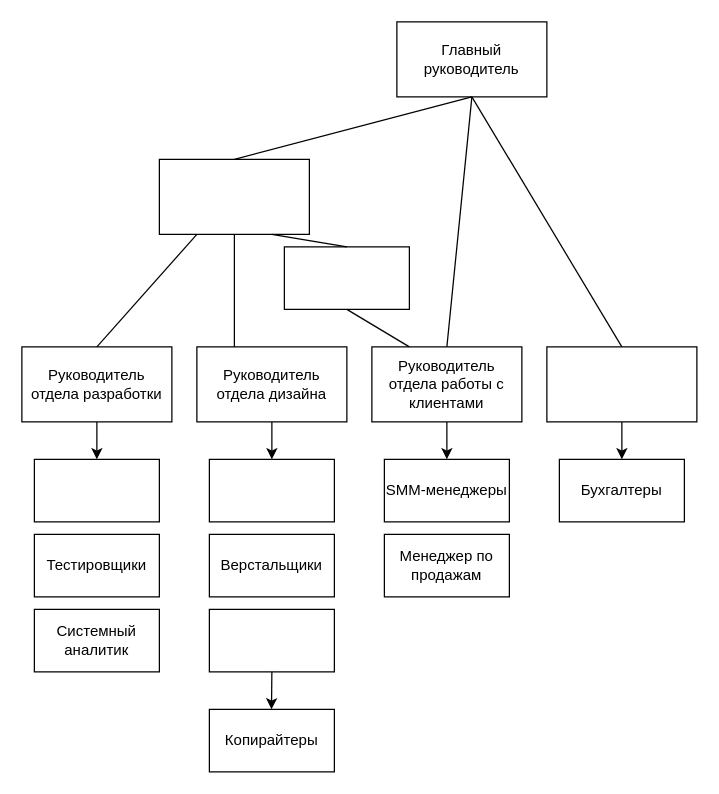
Image size: 719x794. Some labels were removed from this diagram. The shapes that lost their labels are listed below. From the top down, each one's centre as x and y in pixels, then its label:
At pixel 233 196: "Руководитель проектов".
At pixel 346 277: "Аналитик".
At pixel 621 384: "Финансовый директор".
At pixel 96 490: "Разработчики".
At pixel 271 490: "Дизайнеры".
At pixel 271 640: "Контент менеджер".
